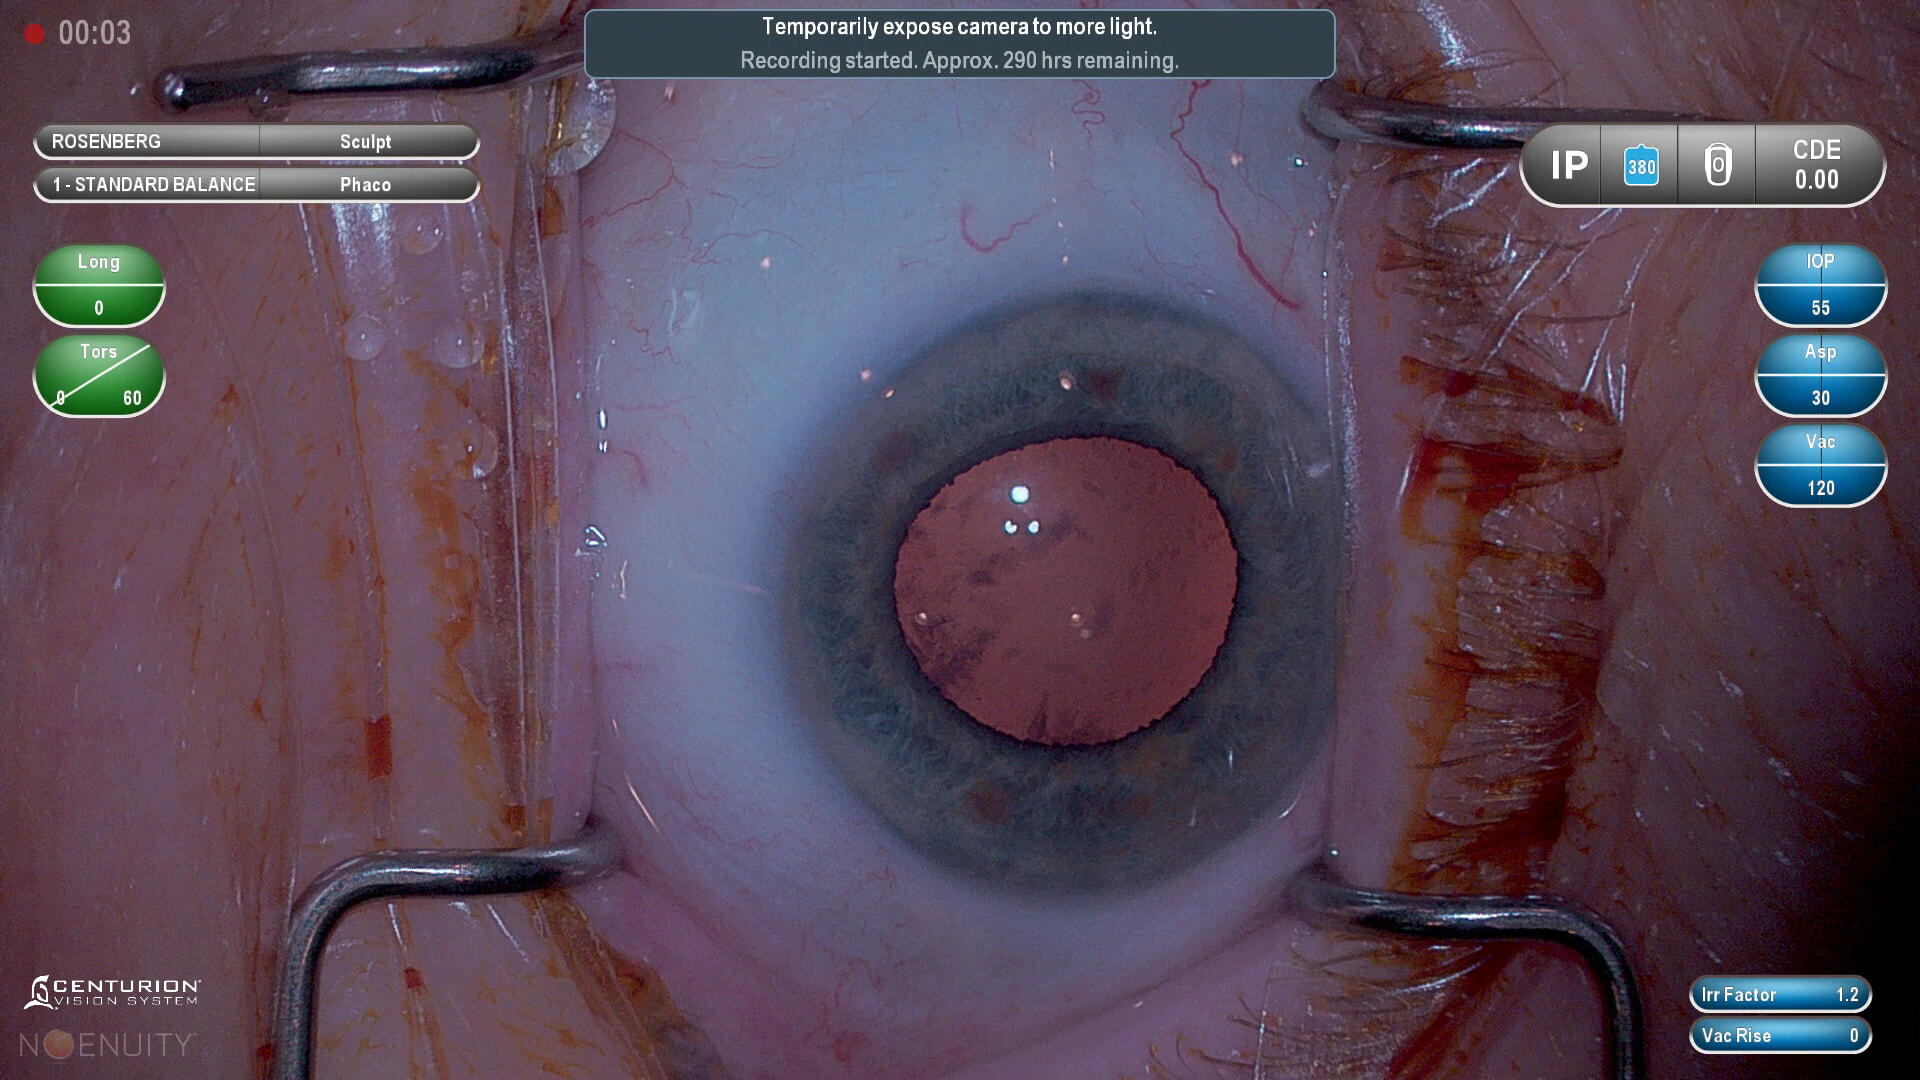iris: (783, 299, 1350, 892)
pupil: (879, 429, 1249, 758)
